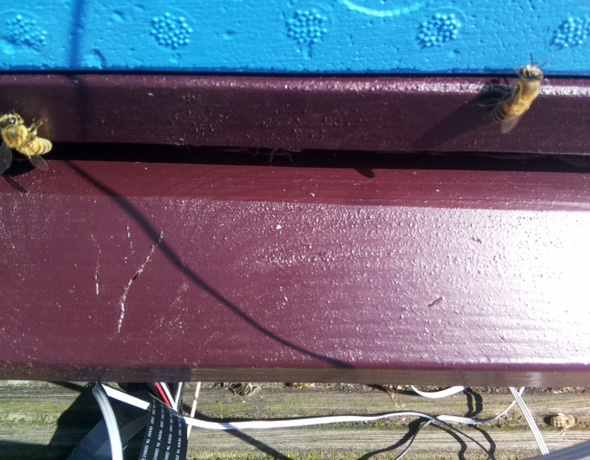no_pollen: (488, 60, 548, 131), (1, 106, 56, 161)
